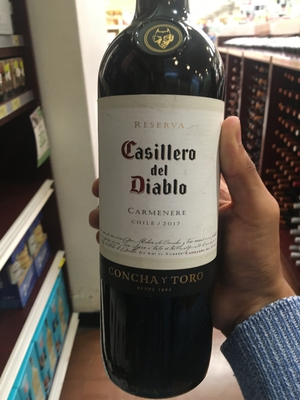casillero del diablo carmenere: (77, 13, 240, 392)
